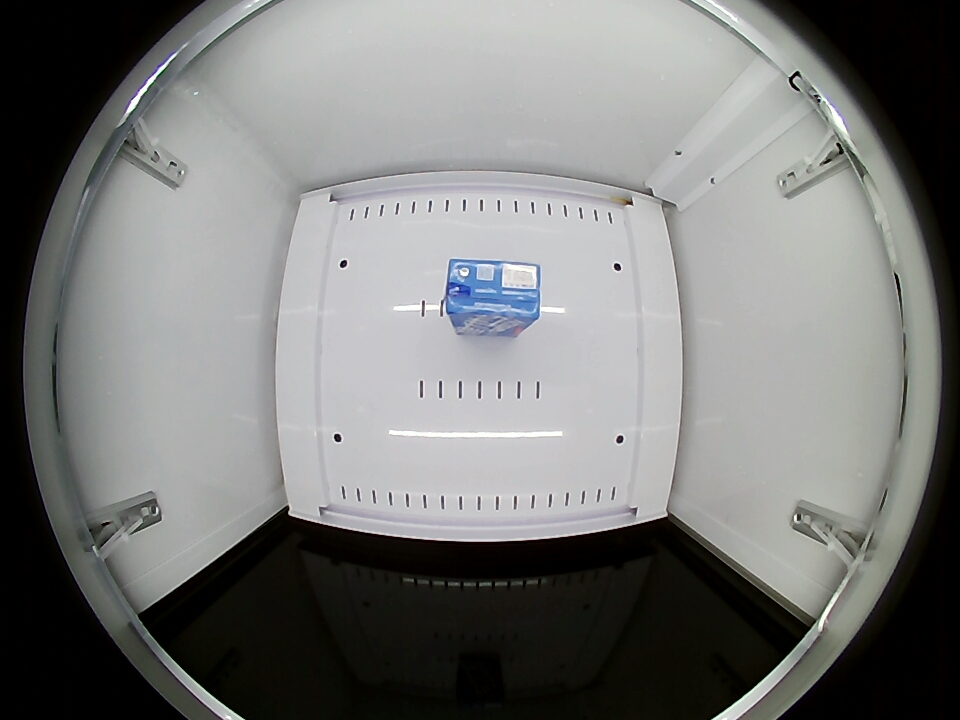weitanai: (444, 260, 541, 330)
